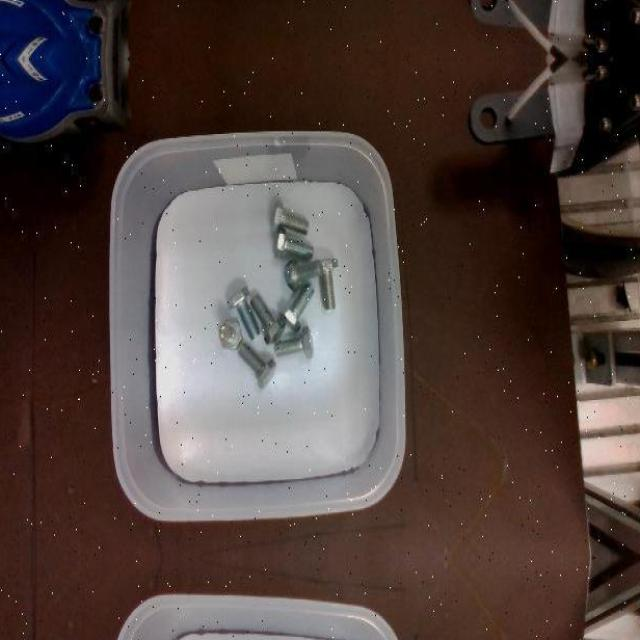screw: (279, 282, 315, 332), (250, 294, 286, 344), (238, 342, 276, 389), (228, 286, 260, 340), (275, 224, 315, 260), (272, 200, 310, 236), (274, 326, 314, 358), (285, 260, 323, 291), (219, 321, 243, 350)
